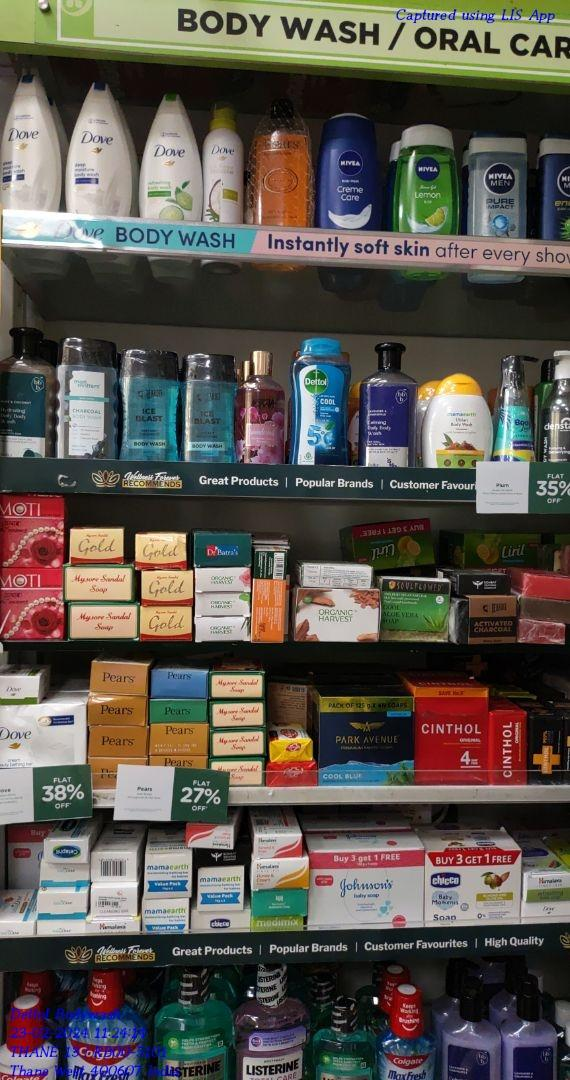Dettol_Bodywash_Cool: (289, 340, 350, 466)
Dove_Deep_Moisture_Body_Wash_250ML: (65, 76, 134, 214), (1, 73, 63, 214)
Dove_Refreshing_Body_Wash_250ML: (142, 95, 201, 222)
Nivea_Creme_Care_Body_Wash_250ML: (319, 112, 384, 229)
Nivea_Shower_Gel_Lemon_and_Oil_250ML: (395, 125, 457, 237)
